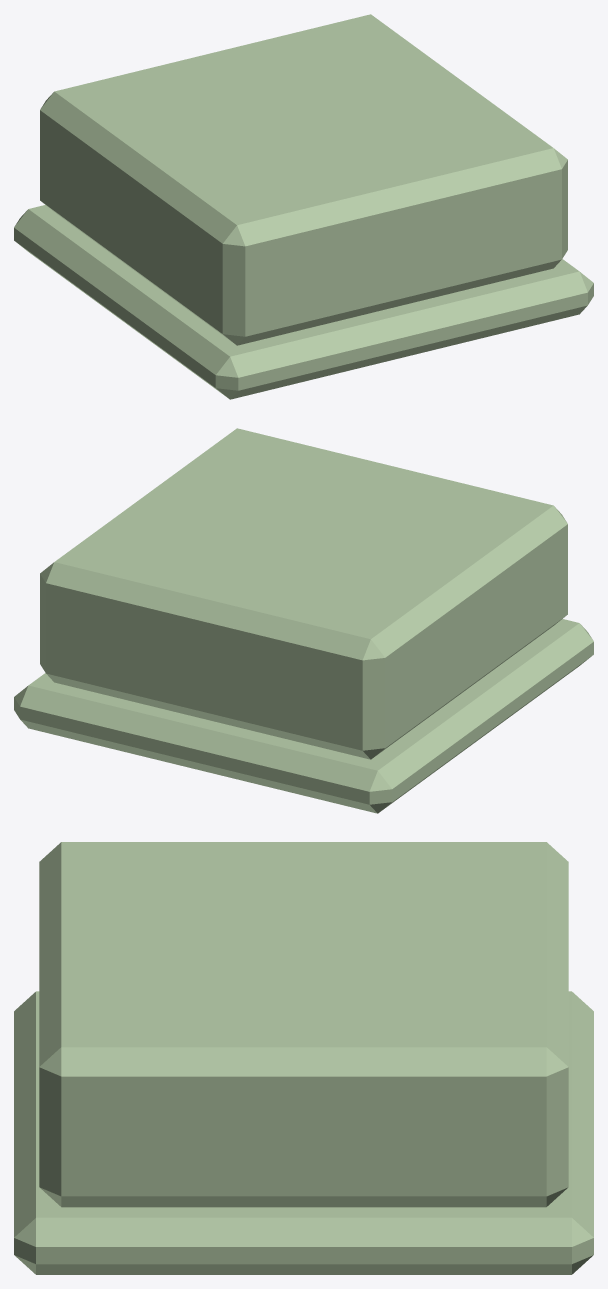
Rendered from craft_dual_Full.glb.
3 renders of one model, top to bottom at view 1: azimuth 30°, elevation 25°; view 2: azimuth 150°, elevation 25°; view 3: azimuth 270°, elevation 25°, orthographic. The views are drawn at different scales.
Visible parts, largest first — view 1: Full; view 2: Full; view 3: Full.
Part boxes in pixels (bbox=[...]): Full: bbox=[14, 14, 593, 399]; Full: bbox=[14, 428, 593, 813]; Full: bbox=[14, 842, 593, 1274].
Size of the model in its own units: 0.92 by 0.38 by 0.92.
